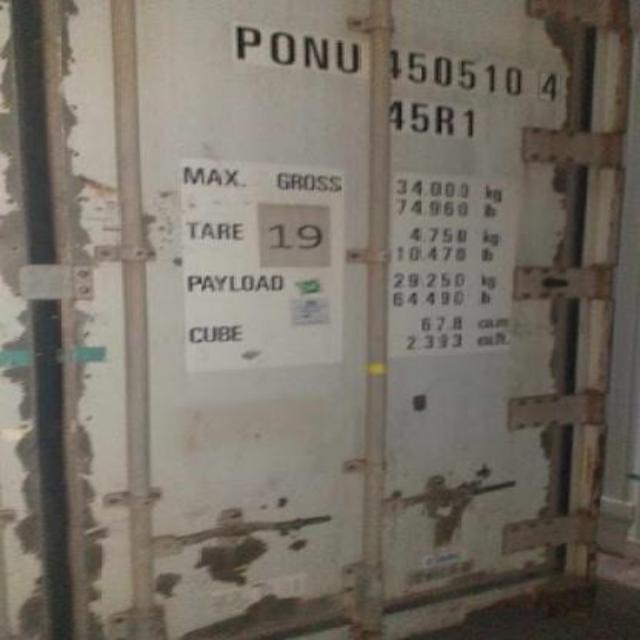0: (502, 60, 526, 96), (434, 52, 454, 92)
1: (482, 60, 502, 96)
4: (542, 70, 564, 100), (388, 49, 406, 85)
5: (458, 57, 478, 95), (410, 50, 428, 86)
N: (304, 32, 336, 76)
O: (266, 26, 302, 70)
P: (238, 25, 260, 61)
U: (336, 38, 368, 78)
